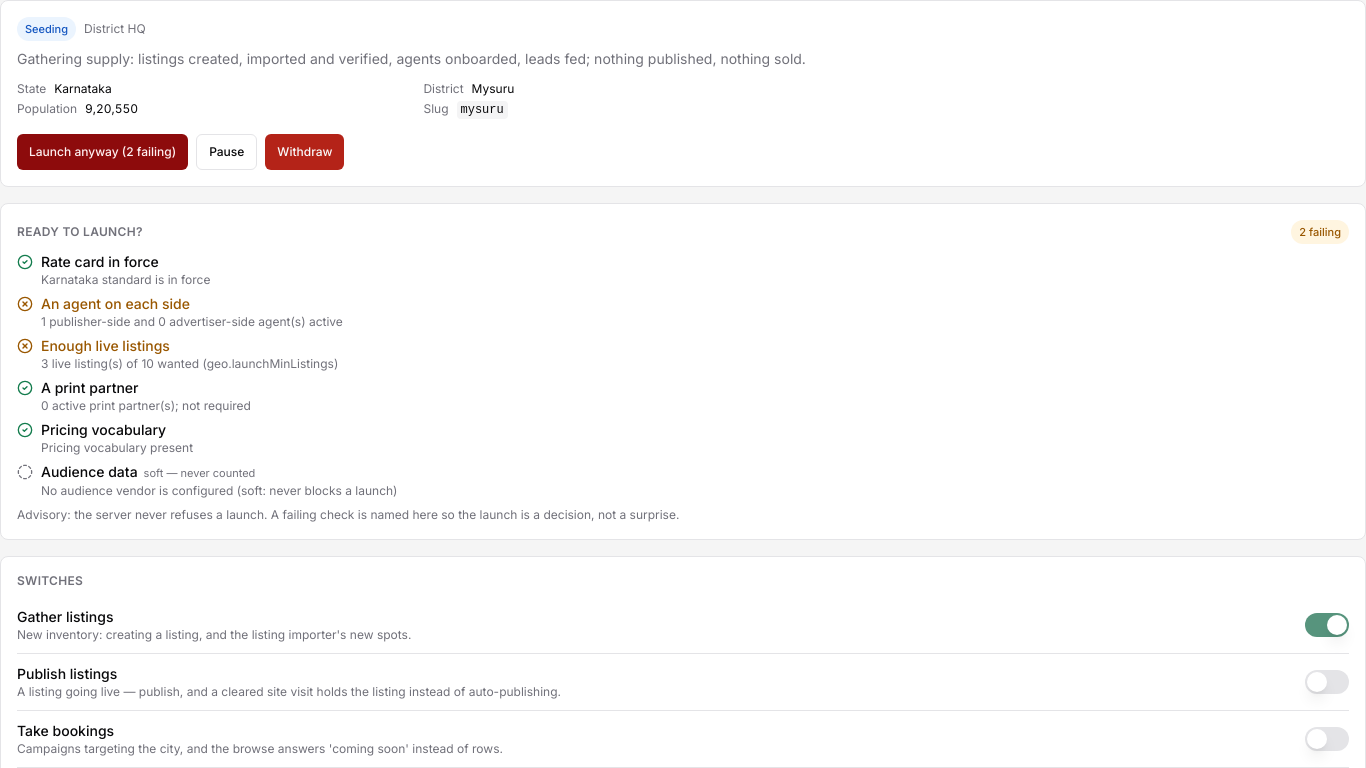
Test: readiness ahead of Launch › names the failing checks and offers Launch only as 'Launch anyway' while they fail
Expected: the element with test id "readiness" shows "2 failing", [1299,225,1341,239]
Expected: the element with test id "readiness" shows "An agent on each side", [41,295,190,312]
Click the button "Launch anyway (2 failing)": [103, 152] box [17,134,188,170]
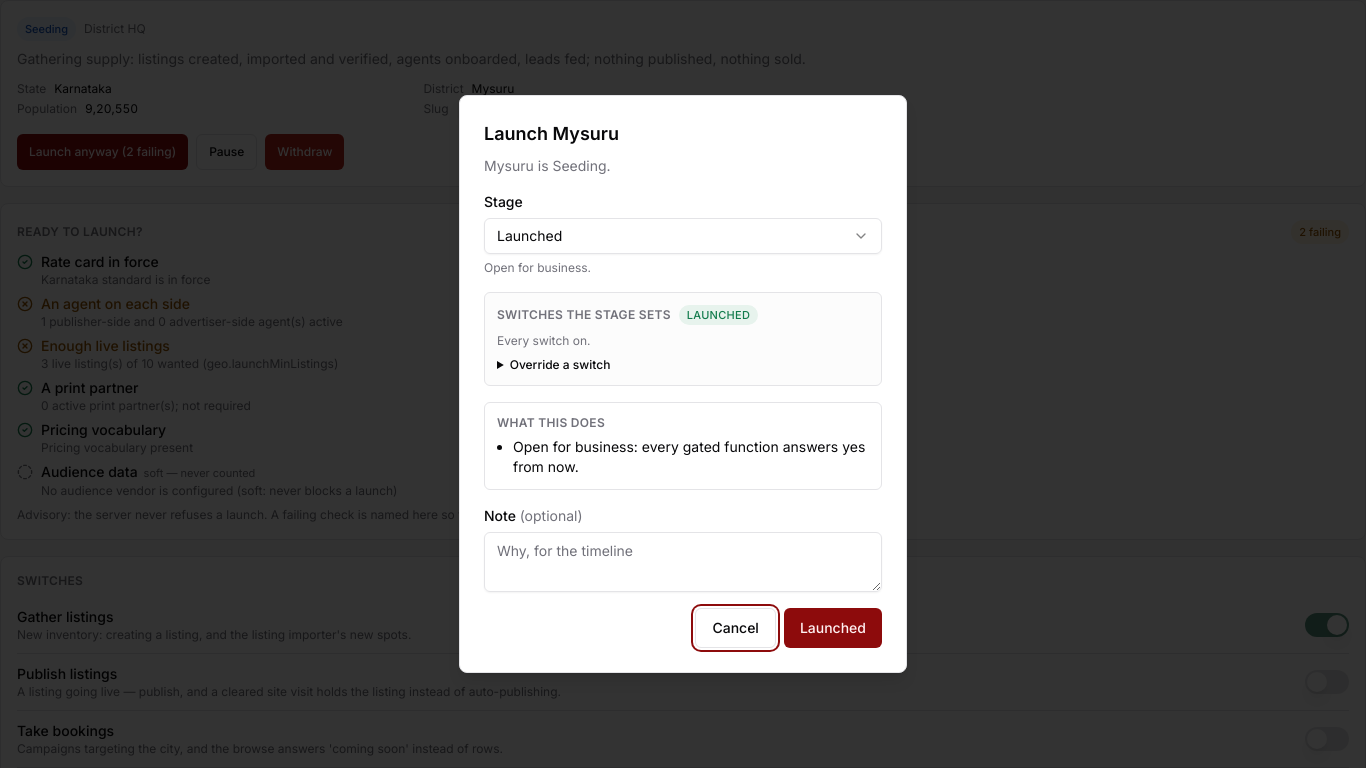
Expected: the dialog shows "Launch Mysuru", [484,123,619,144]
